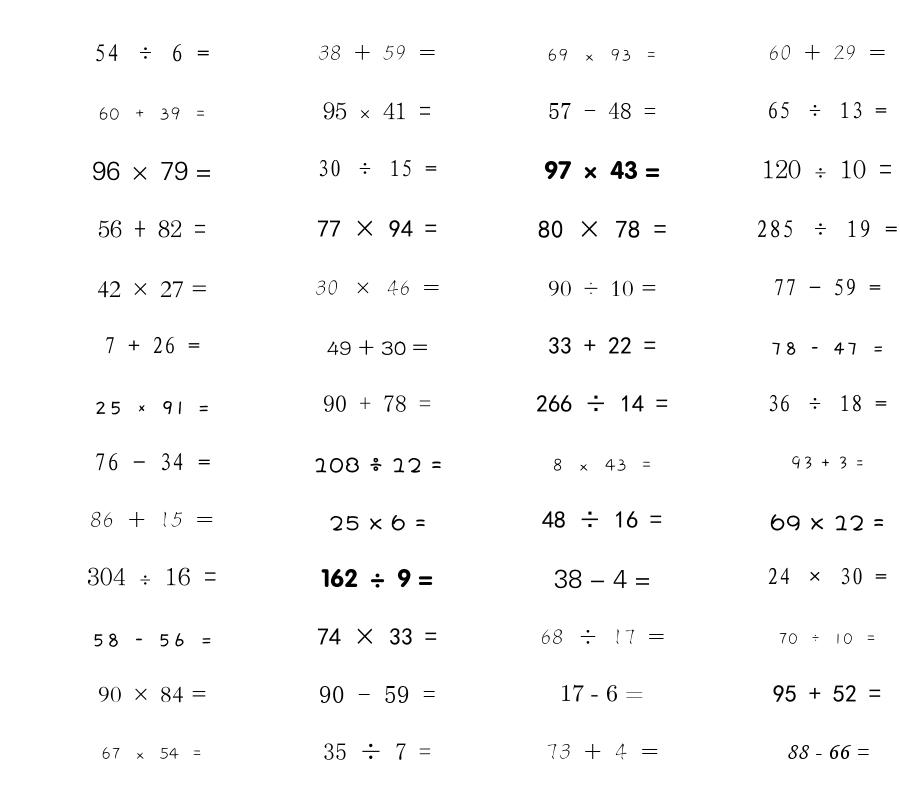MQ: (762, 159, 892, 179), (756, 220, 898, 238), (87, 567, 217, 586), (538, 220, 667, 239), (92, 161, 212, 181), (544, 160, 660, 180), (536, 395, 668, 412), (321, 568, 433, 588), (767, 101, 887, 119), (317, 159, 437, 177), (767, 394, 887, 412), (767, 567, 887, 585), (90, 511, 214, 528), (94, 453, 211, 471), (94, 44, 210, 62), (313, 457, 442, 473), (317, 220, 437, 237), (542, 511, 662, 528), (317, 628, 437, 645), (315, 280, 440, 296), (540, 629, 665, 645), (319, 686, 436, 703), (770, 514, 885, 531), (323, 102, 431, 120), (98, 220, 206, 238), (773, 278, 881, 296), (554, 569, 651, 589), (546, 743, 659, 760), (97, 281, 208, 298), (548, 280, 657, 297), (98, 686, 207, 703), (548, 102, 656, 119), (548, 337, 656, 354), (323, 395, 431, 412), (773, 685, 881, 702), (323, 743, 431, 760), (318, 45, 436, 60), (768, 45, 886, 60), (104, 336, 200, 354), (327, 339, 428, 356), (91, 633, 213, 647), (329, 514, 426, 531), (94, 401, 211, 415), (547, 48, 658, 62), (98, 107, 207, 121), (560, 684, 644, 702), (770, 342, 885, 355), (552, 458, 653, 472), (101, 747, 203, 760), (778, 633, 877, 645), (786, 745, 869, 759), (790, 456, 865, 470)
